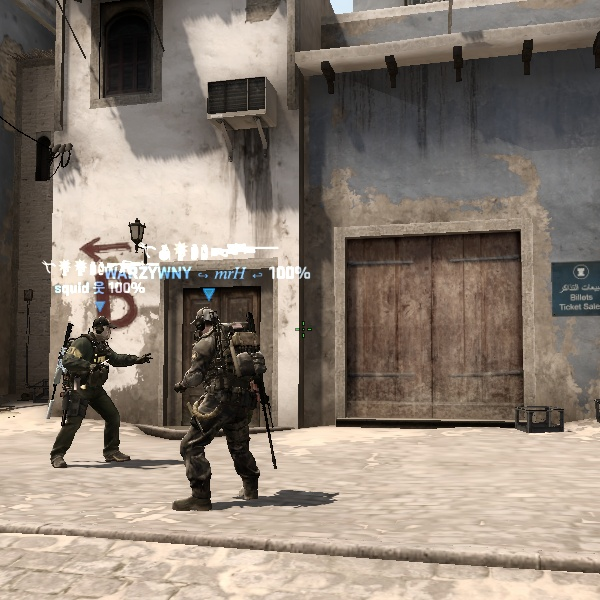ct_body: (174, 306, 276, 502), (47, 310, 138, 469)
ct_head: (188, 306, 226, 342), (86, 312, 120, 344)
